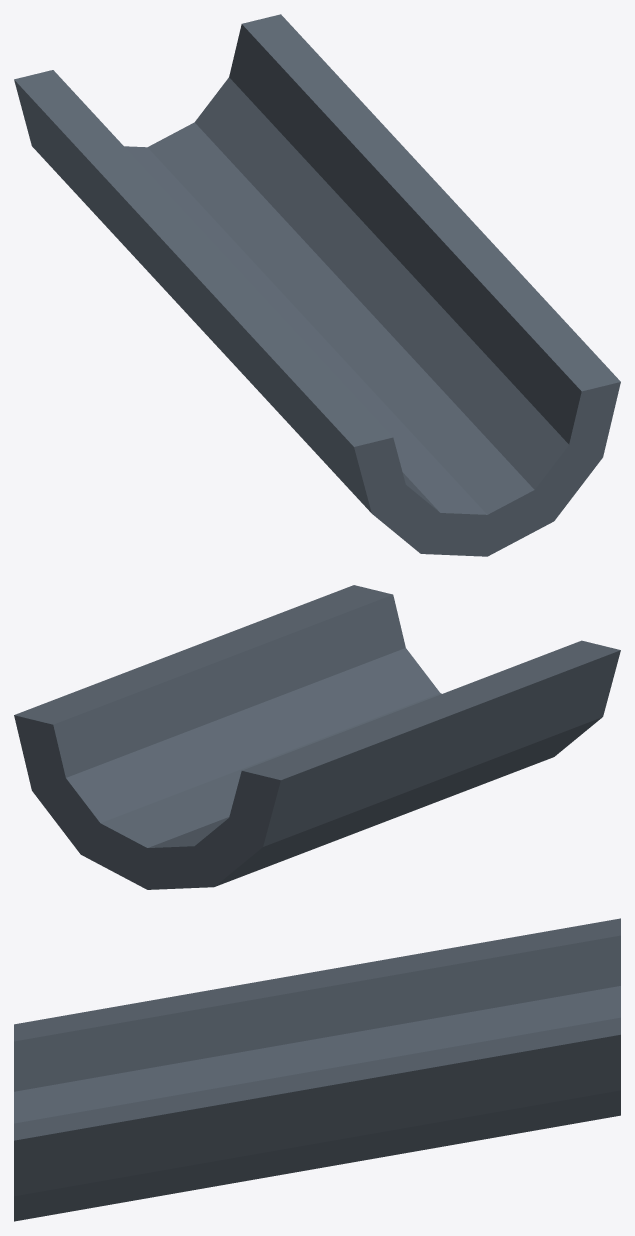
Rendered from rampa1.glb.
The picture shows the model from 3 angles, top to bottom: view 1: azimuth 30°, elevation 25°; view 2: azimuth 150°, elevation 25°; view 3: azimuth 270°, elevation 25°; orthographic projection. The views are drawn at different scales.
Parts seen in each view (by area): view 1: rampa1-col; view 2: rampa1-col; view 3: rampa1-col.
Part boxes in pixels (bbox=[...]): rampa1-col: bbox=[14, 14, 620, 556]; rampa1-col: bbox=[14, 585, 620, 889]; rampa1-col: bbox=[14, 918, 620, 1221].
Bounding box in the file's own units: 0.68 × 0.6353 × 1.5.
